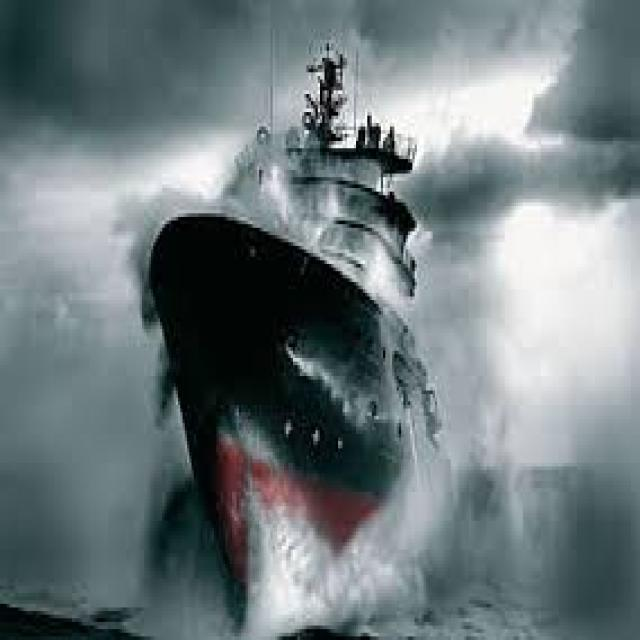passenger ship: (150, 37, 462, 614)
